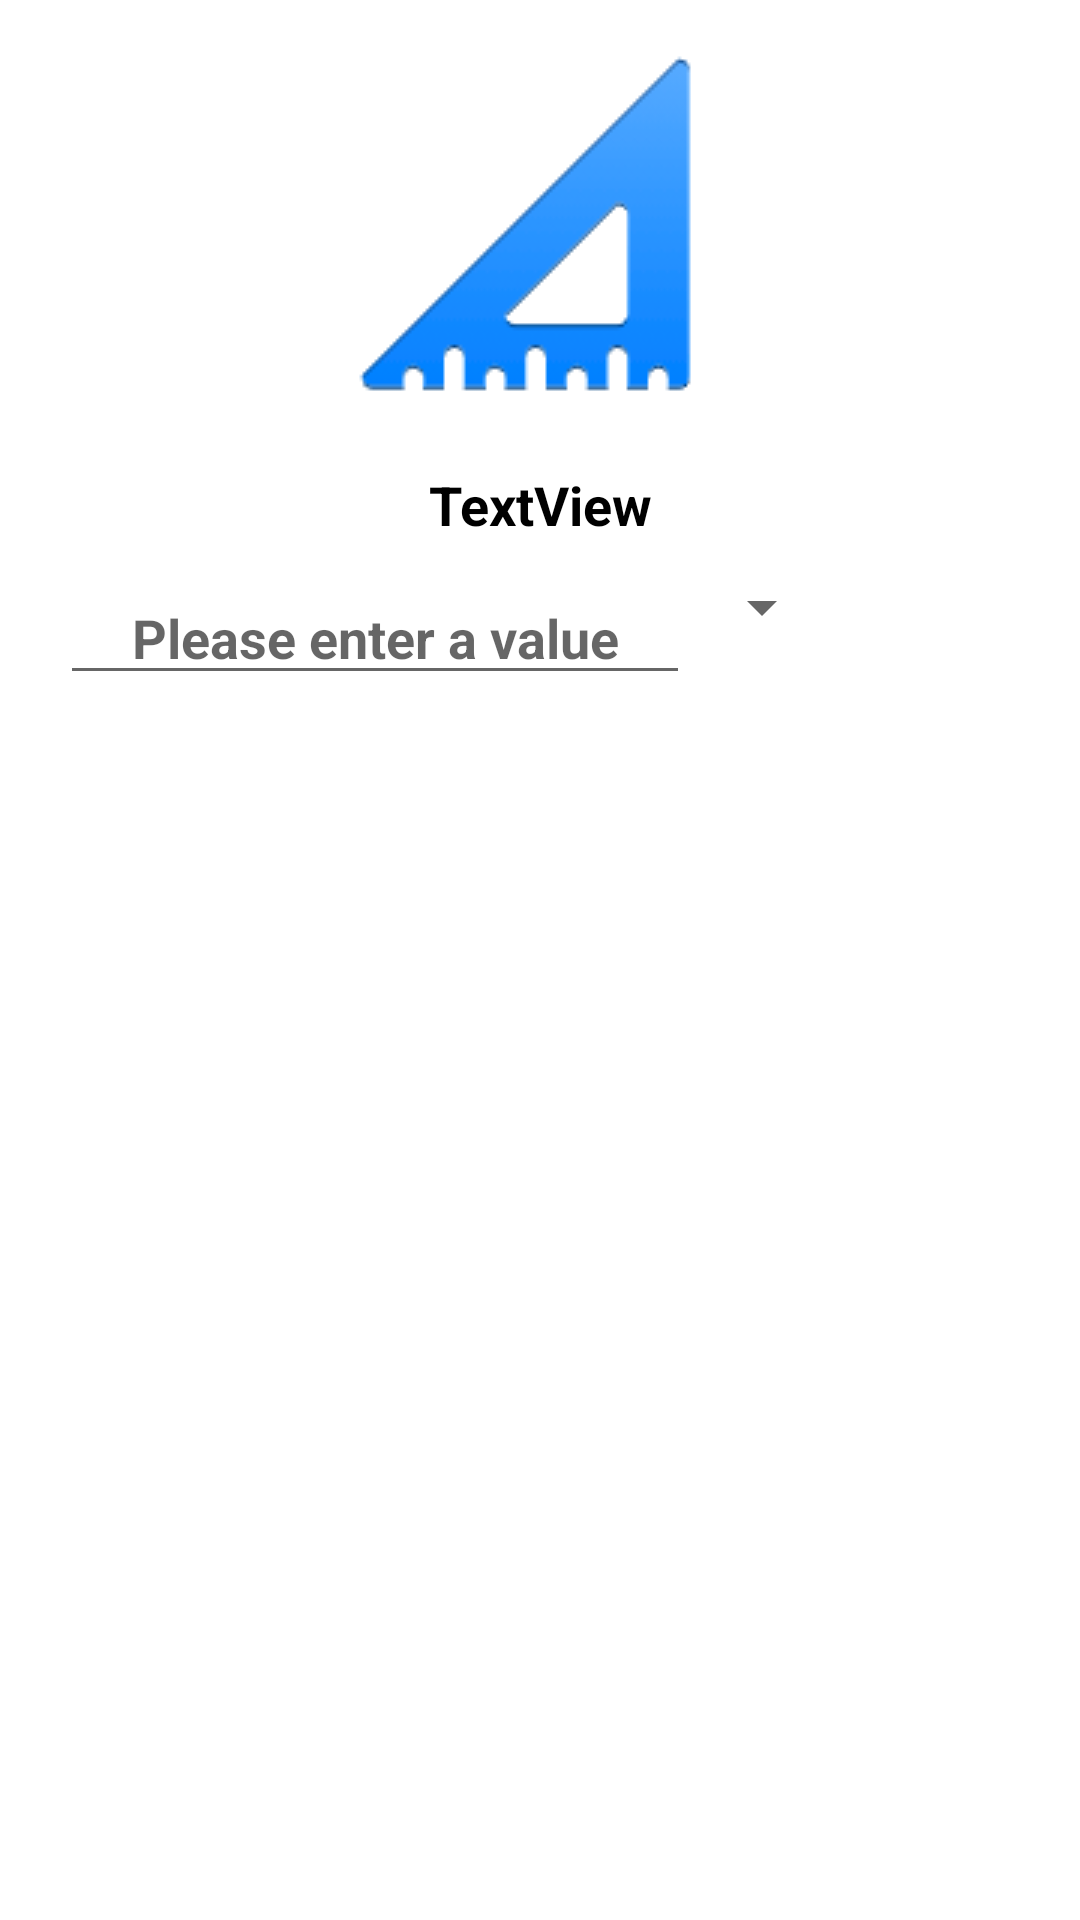

Named icons in this screenshot (1080*1920) and their centers, [x,y]:
length: [525,224]
